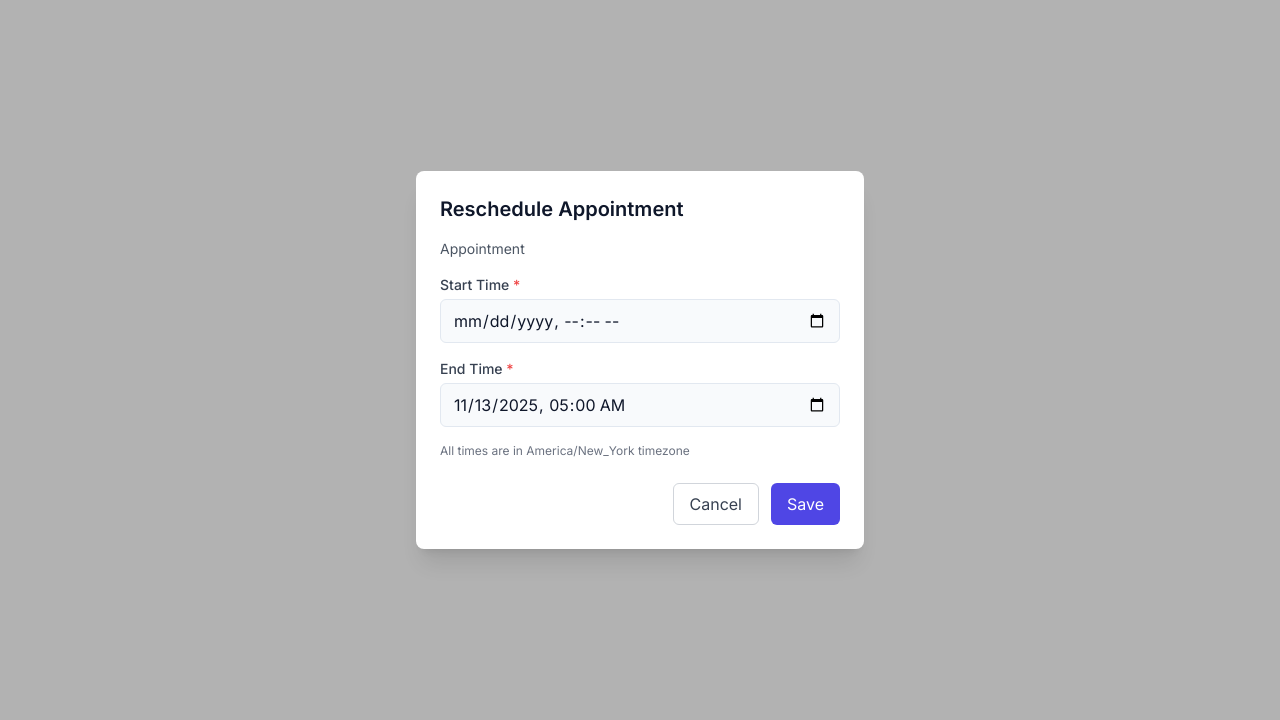
Scenario: RescheduleModal › Validation error messaging › should show error when start time is empty and form is submitted
Click the button "Save" at (806, 504), box [771,483,840,525]
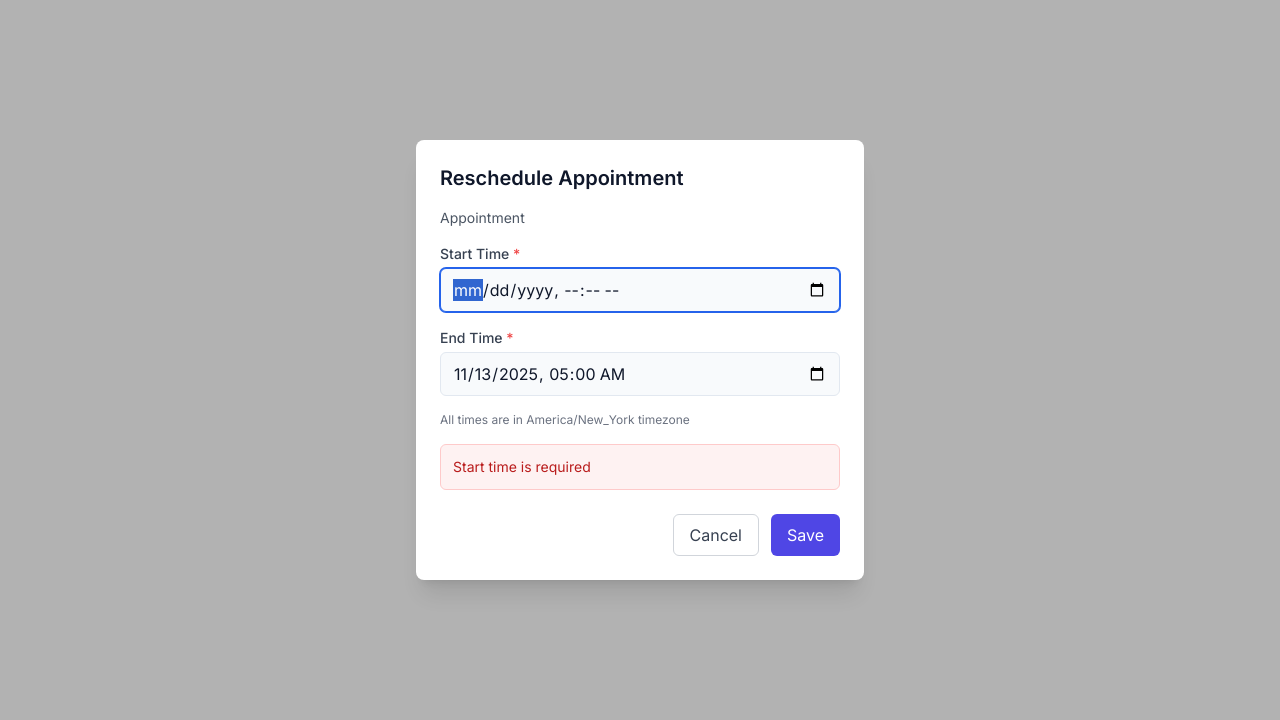
Expected: the text "Start time is required" is shown, [440,444,840,490]
